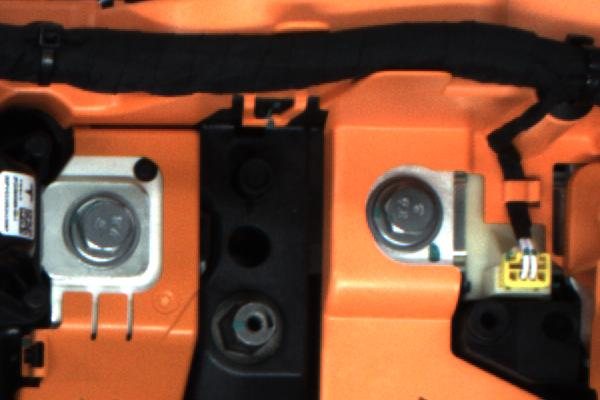nut_b: (49, 186, 144, 274), (356, 169, 445, 258)
